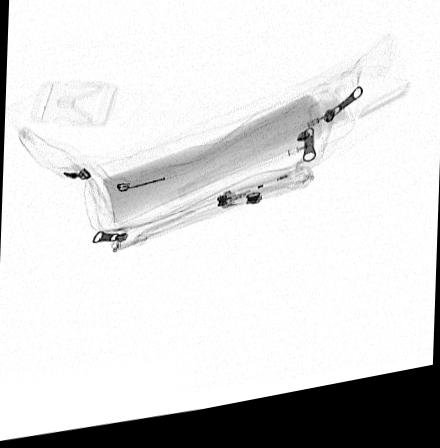Lighter: (114, 177, 177, 196)
